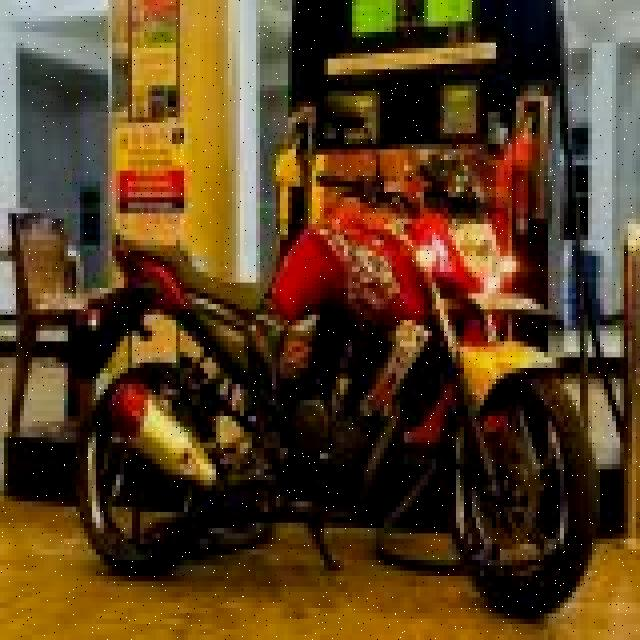motorbike: (73, 163, 598, 624)
